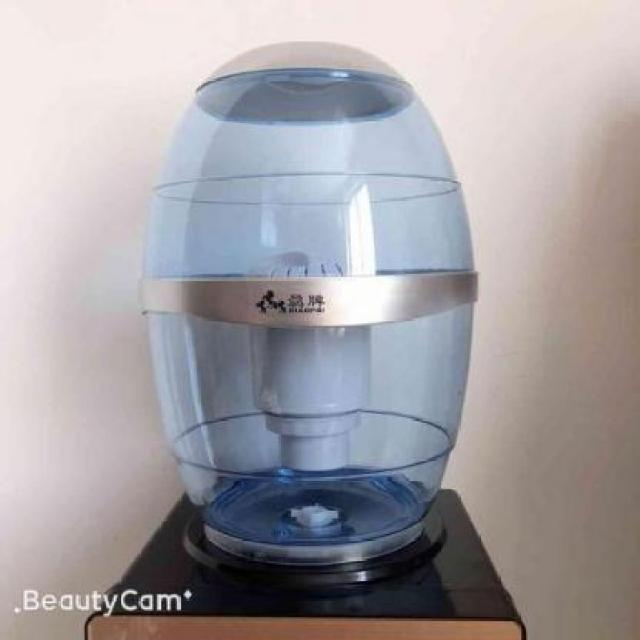coolerbottle: (132, 36, 482, 566)
